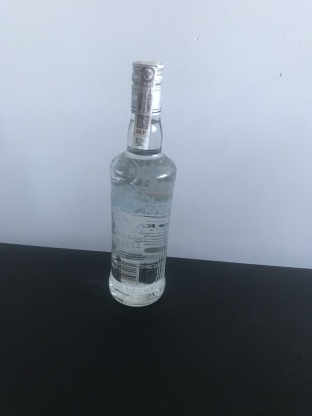nakretka: (128, 57, 165, 117)
